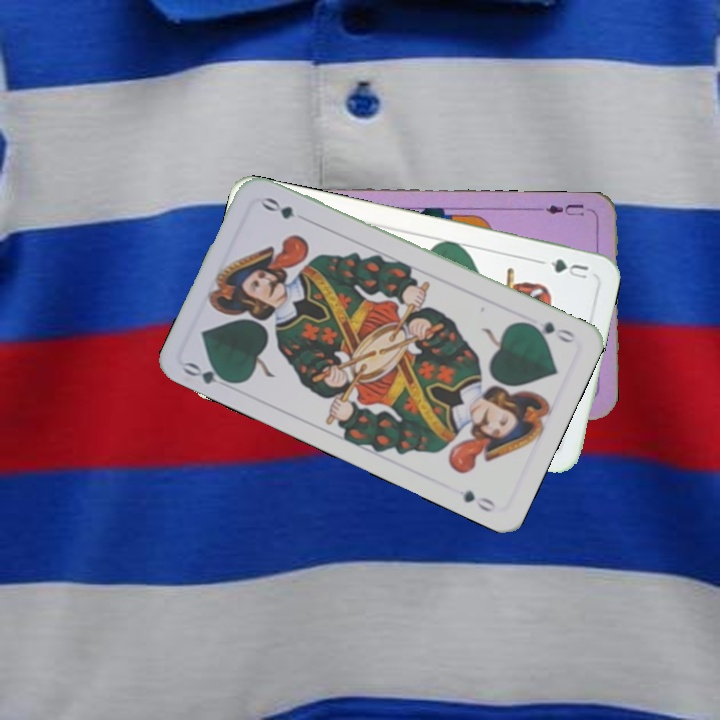EU: (536, 200, 595, 219)
GO: (179, 358, 238, 390), (521, 317, 578, 346)
GU: (545, 254, 591, 282)
